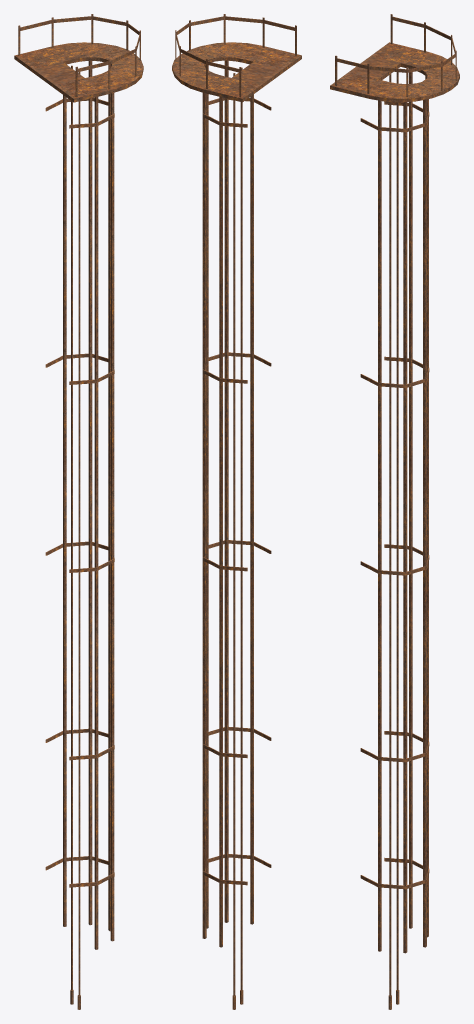
File: ladder_big_lod.fbx
3 views of the same model, side by side, from view 1: azimuth 30°, elevation 25°; view 2: azimuth 150°, elevation 25°; view 3: azimuth 330°, elevation 25° (orthographic).
Parts seen in each view (by area): view 1: Mesh Object; view 2: Mesh Object; view 3: Mesh Object.
Part boxes in pixels (x1,y1,x2,y2): Mesh Object: (14, 14, 143, 1009); Mesh Object: (172, 14, 301, 1009); Mesh Object: (330, 14, 459, 1009).
Size of the model in its own units: 3.34 by 33.59 by 3.74.
